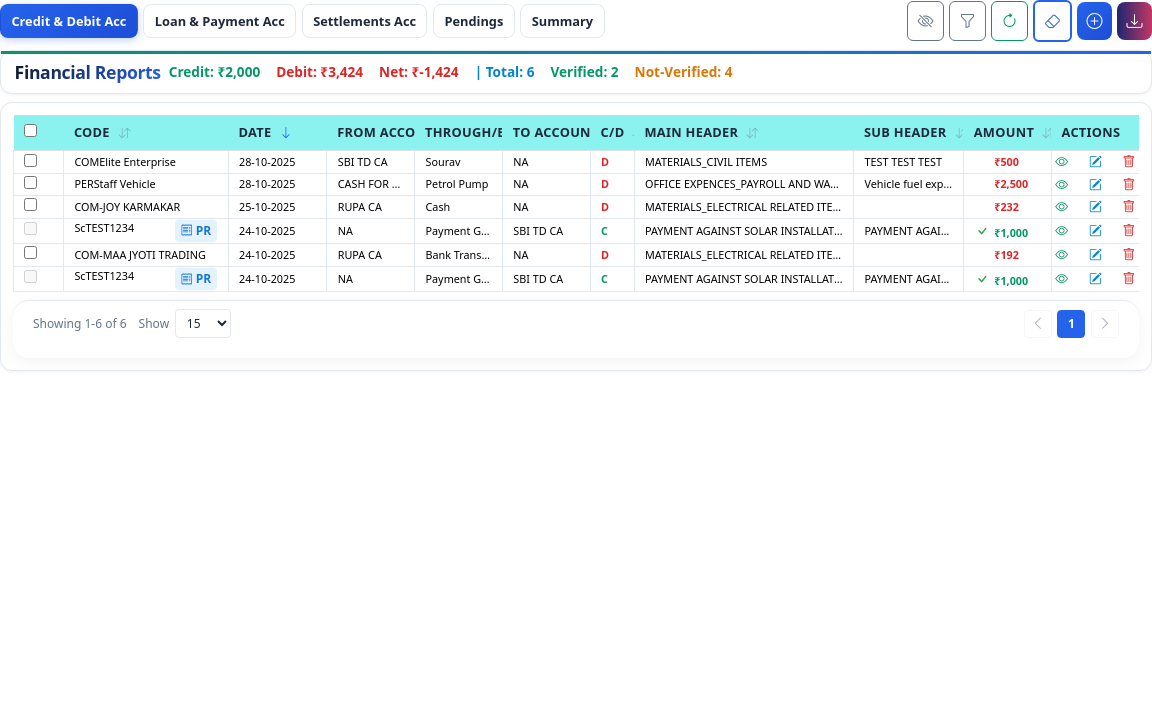
FinancialReports Component › 6. CRUD Operations › should show delete confirmation dialog
Click the button titled "Delete" in the row of "COMElite Enterprise" at x=1129, y=162, box [1114,152,1143,173]
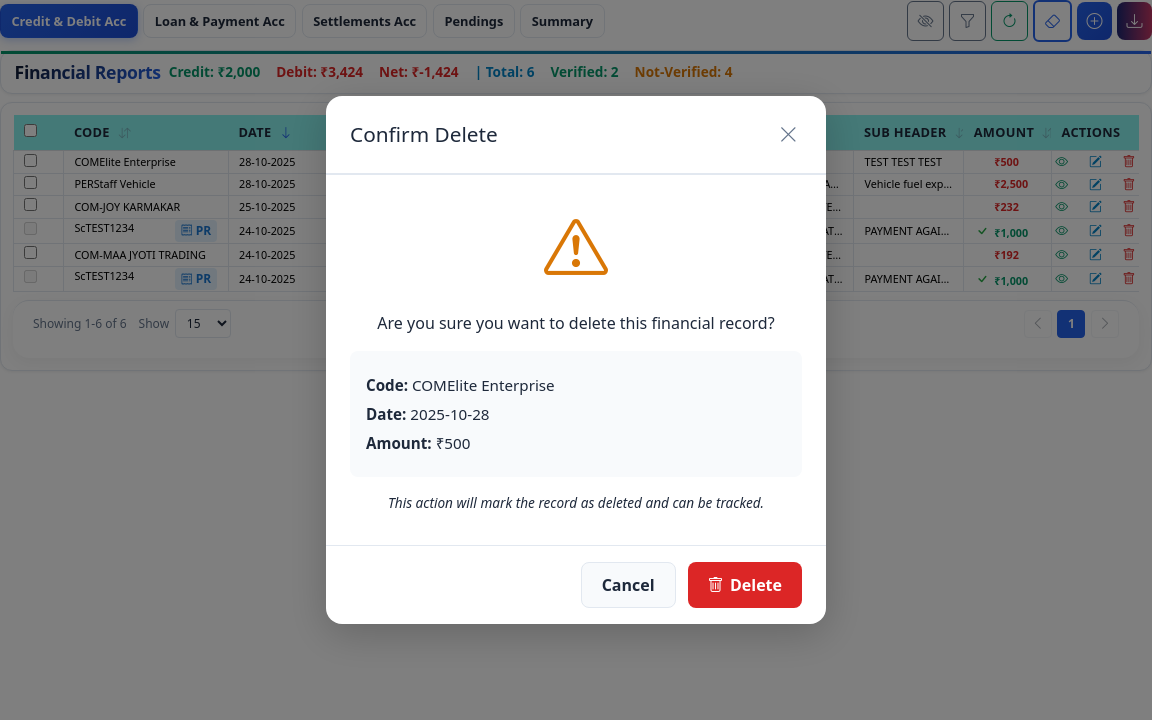
expect the heading "Confirm Delete" is shown: met, box [350,122,498,147]
